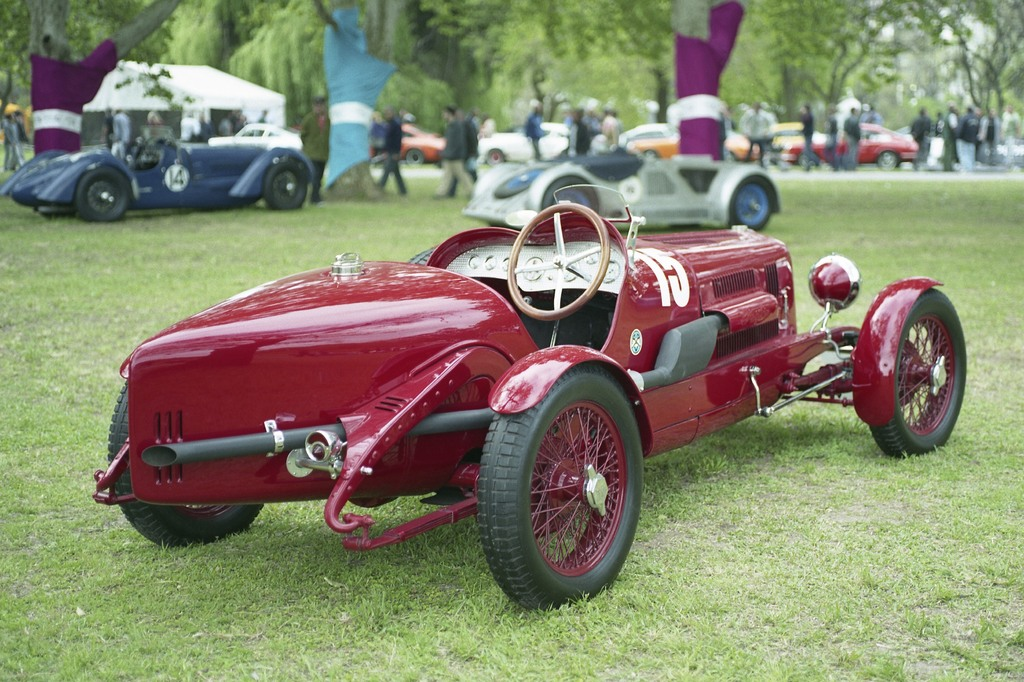person: (428, 102, 479, 199)
